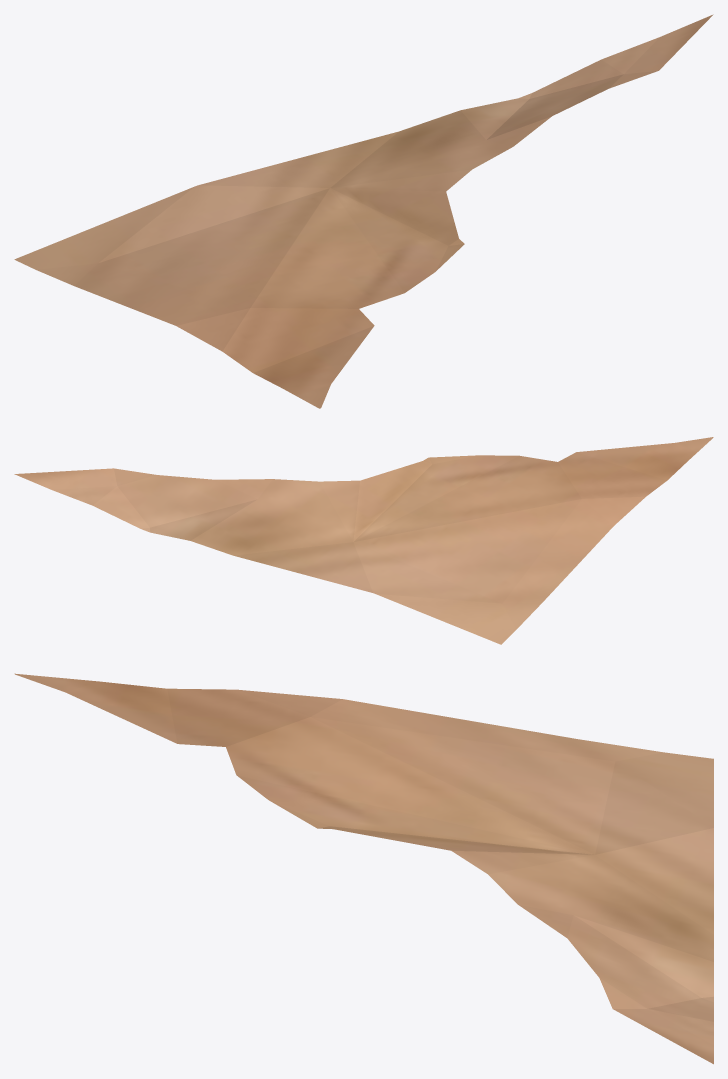
3 views of the same model, one above another, from view 1: azimuth 30°, elevation 25°; view 2: azimuth 150°, elevation 25°; view 3: azimuth 270°, elevation 25° (orthographic). The views are drawn at different scales.
Bounding box in the file's own units: 0.5302 × 0.054 × 0.4011.
1 material, 1 textured.
